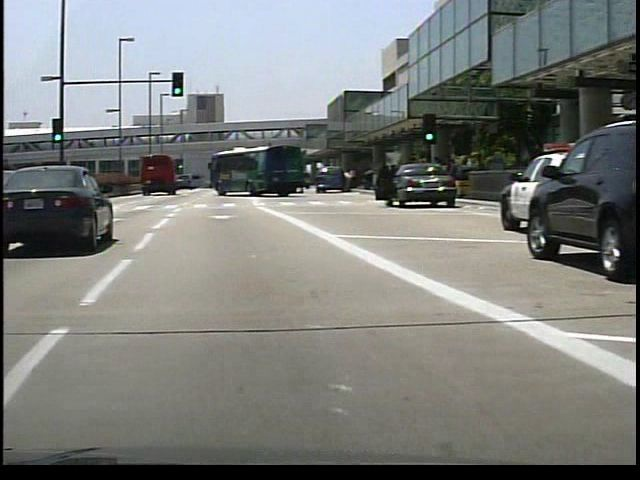person: (337, 167, 348, 193)
